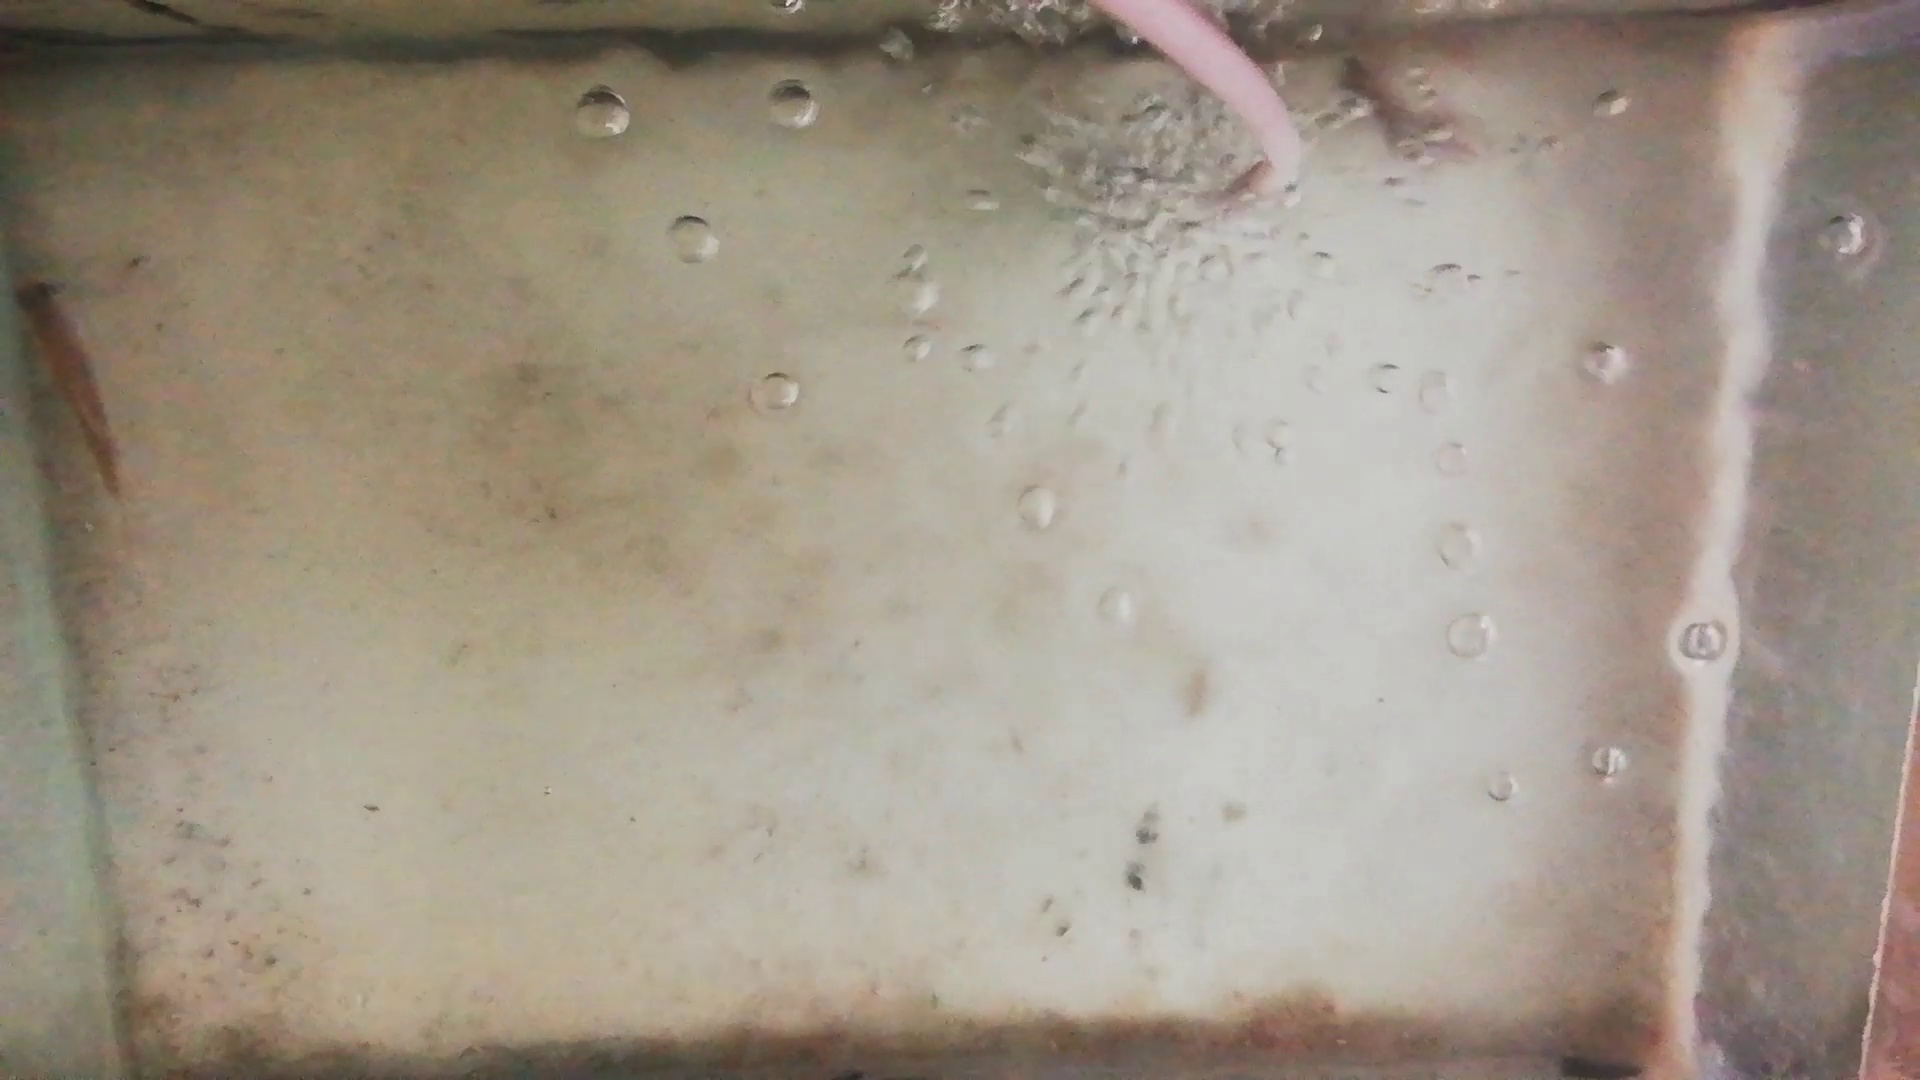fish: (11, 274, 125, 504), (1331, 51, 1436, 150)
